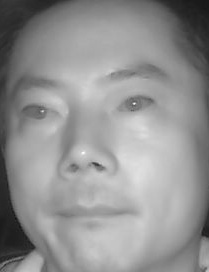eye: (20, 99, 62, 126), (114, 92, 157, 116)
mouth: (54, 188, 133, 235)
